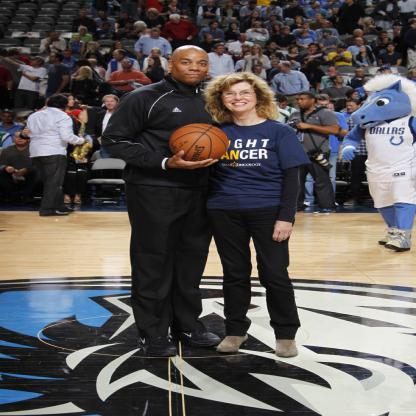Ball: (170, 124, 225, 161)
